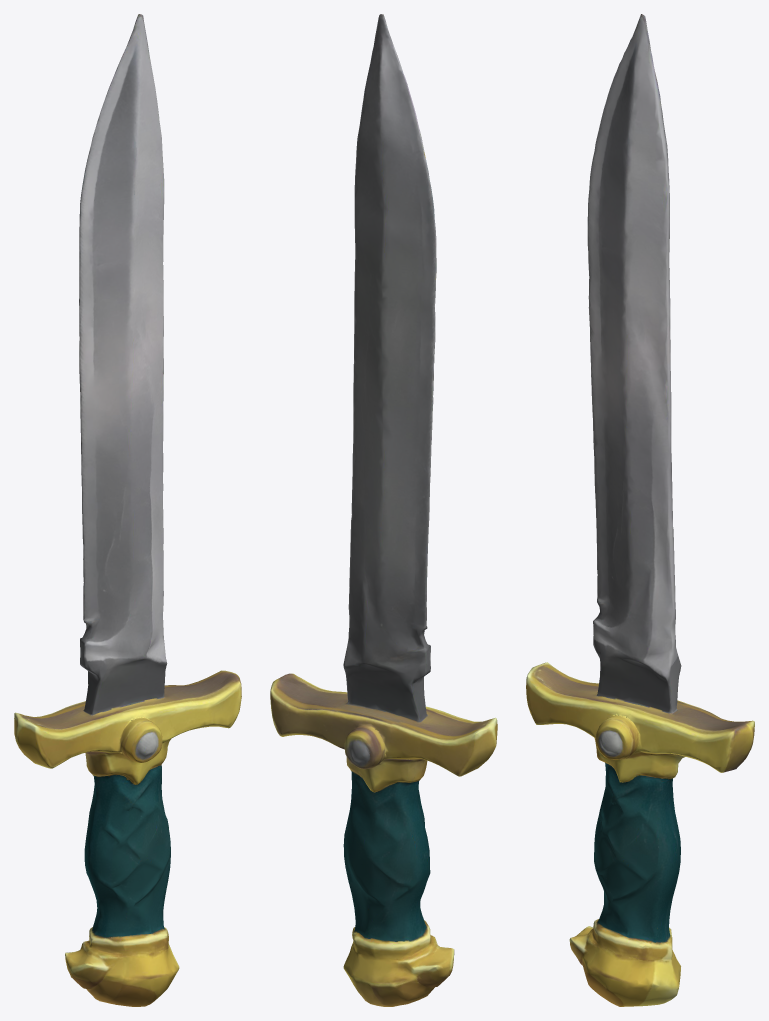
File: kaya_dagger_PC.glb
The picture shows the model from 3 angles, left to right: view 1: azimuth 30°, elevation 25°; view 2: azimuth 150°, elevation 25°; view 3: azimuth 330°, elevation 25°; orthographic projection.
Visible parts, largest first — view 1: kaya_dagger; view 2: kaya_dagger; view 3: kaya_dagger.
Boxes of the visible parts, box(x1,y1,x2,y2) form: kaya_dagger: box(14, 14, 241, 1006); kaya_dagger: box(270, 14, 497, 1006); kaya_dagger: box(526, 14, 754, 1006).
Bounding box in the file's own units: 0.1002 × 0.42 × 0.0432.
Materials: 1 (1 with a texture image).
